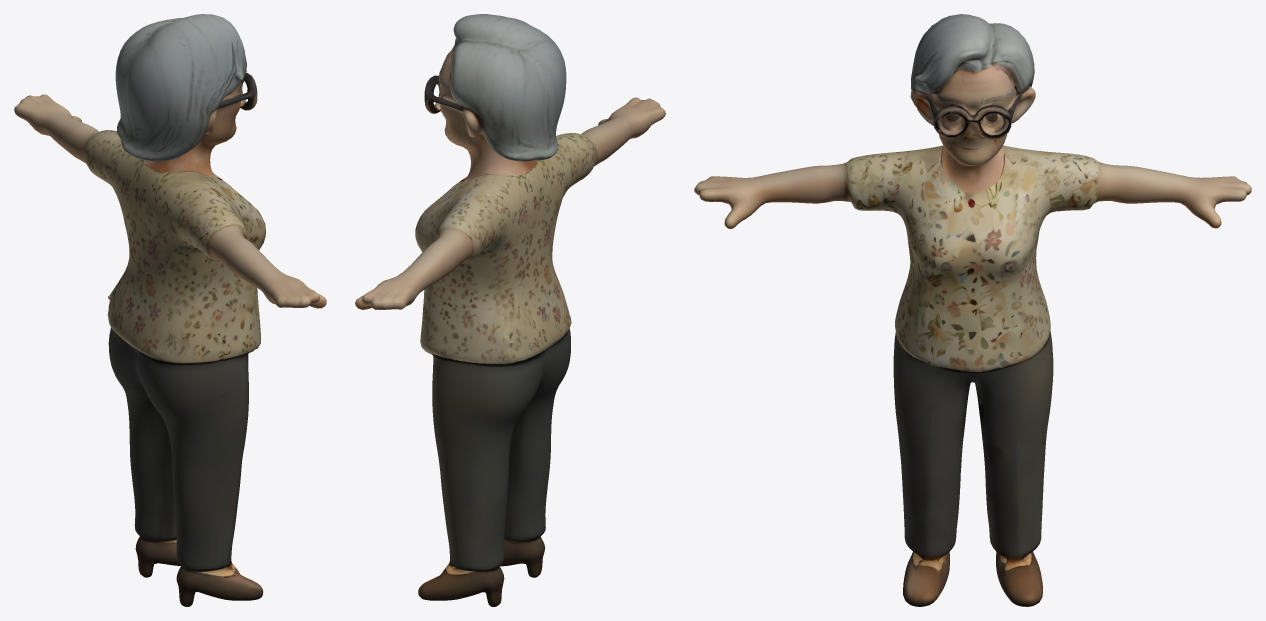
File: tripo_convert_65db3a42-a279-41db-8600-bd8430d6989d.fbx
The picture shows the model from 3 angles, left to right: view 1: azimuth 30°, elevation 25°; view 2: azimuth 150°, elevation 25°; view 3: azimuth 270°, elevation 25°; orthographic projection.
Visible parts, largest first — view 1: tripo_node_65db3a42; view 2: tripo_node_65db3a42; view 3: tripo_node_65db3a42.
Part boxes in pixels (bbox=[...]): tripo_node_65db3a42: bbox=[14, 14, 326, 606]; tripo_node_65db3a42: bbox=[355, 14, 665, 606]; tripo_node_65db3a42: bbox=[694, 14, 1251, 606].
Bounding box in the file's own units: 0.2145 × 0.9471 × 0.8467.
Materials: 1 (1 with a texture image).
